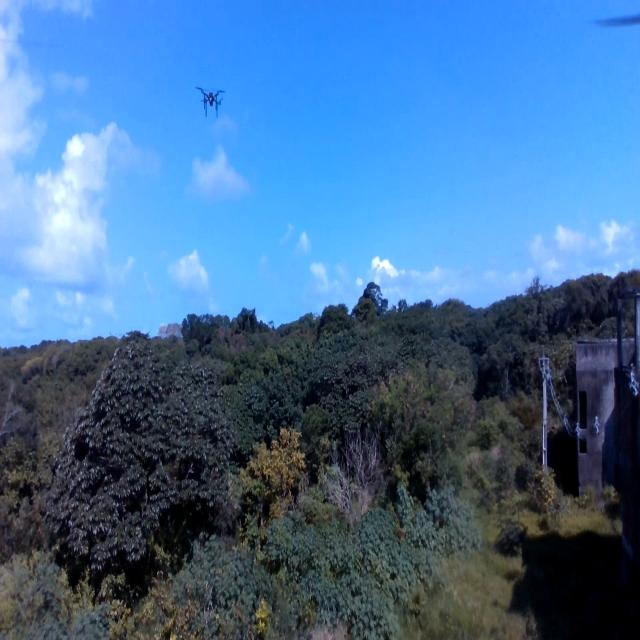-uav-: (192, 83, 234, 133)
